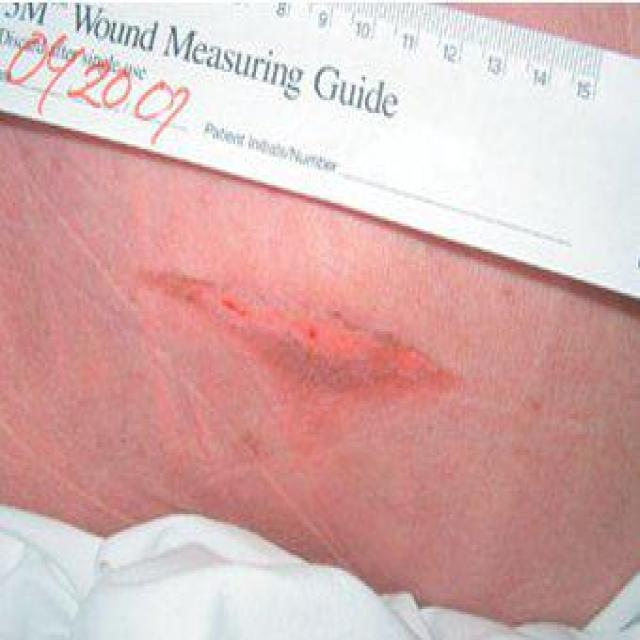stage-1: (147, 271, 474, 457)
